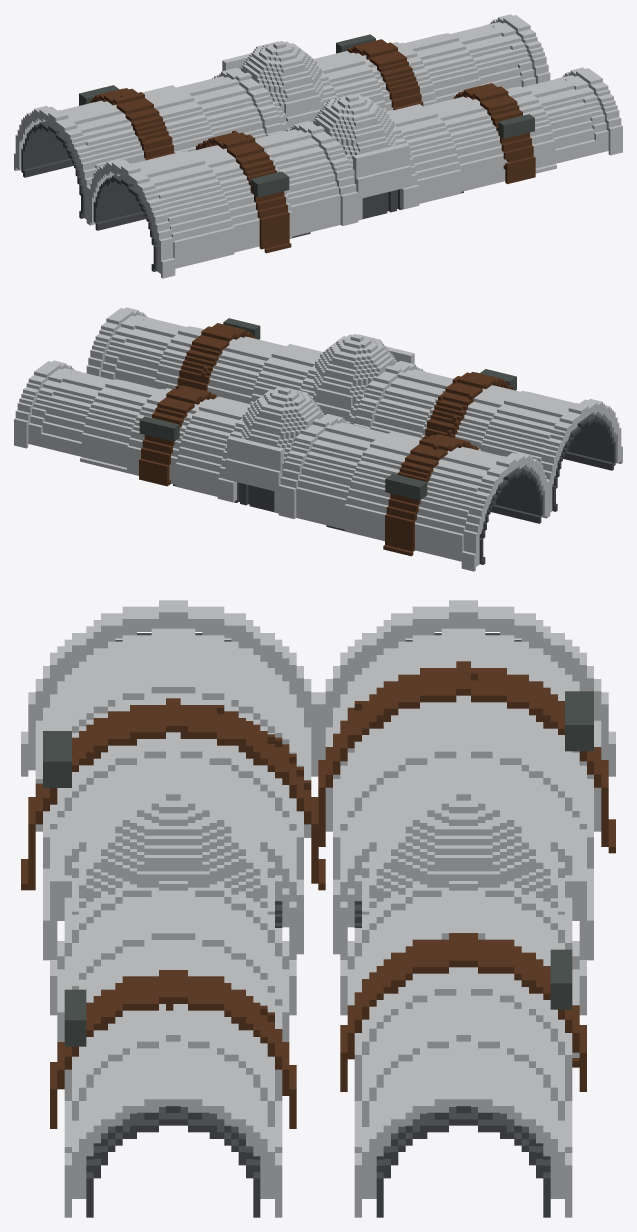
Rendered from leg_guard_steel_heavy.glb.
3 renders of one model, top to bottom at view 1: azimuth 30°, elevation 25°; view 2: azimuth 150°, elevation 25°; view 3: azimuth 270°, elevation 25°, orthographic. The views are drawn at different scales.
Parts seen in each view (by area): view 1: leg_guard_steel_heavy:compound; view 2: leg_guard_steel_heavy:compound; view 3: leg_guard_steel_heavy:compound.
Part boxes in pixels (x1,y1,x2,y2): leg_guard_steel_heavy:compound: (14, 14, 622, 278); leg_guard_steel_heavy:compound: (14, 307, 622, 571); leg_guard_steel_heavy:compound: (21, 600, 615, 1217).
Size of the model in its own units: 0.6 by 0.12 by 0.328.
